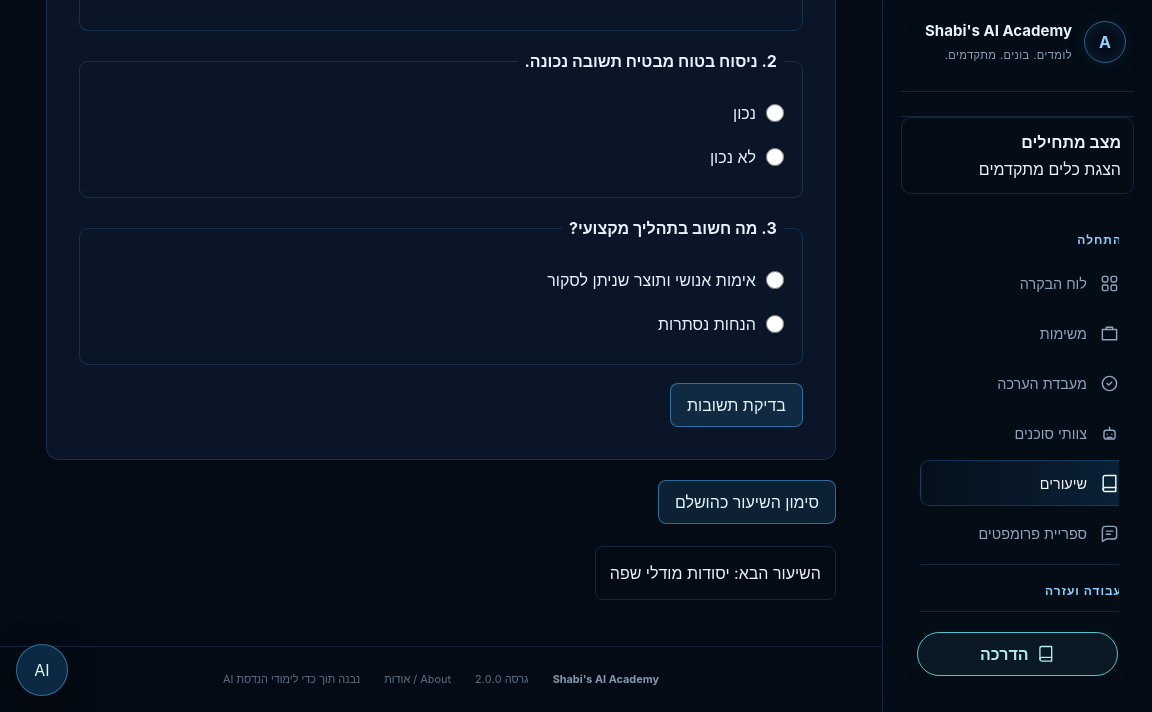
Lesson quiz and completion › rejects marking a lesson complete before the quiz is submitted
This screenshot has width=1152, height=712.
(page scrolled)
Click the button "סימון השיעור כהושלם" at (747, 502), box x1=658 y1=480 x2=836 y2=524
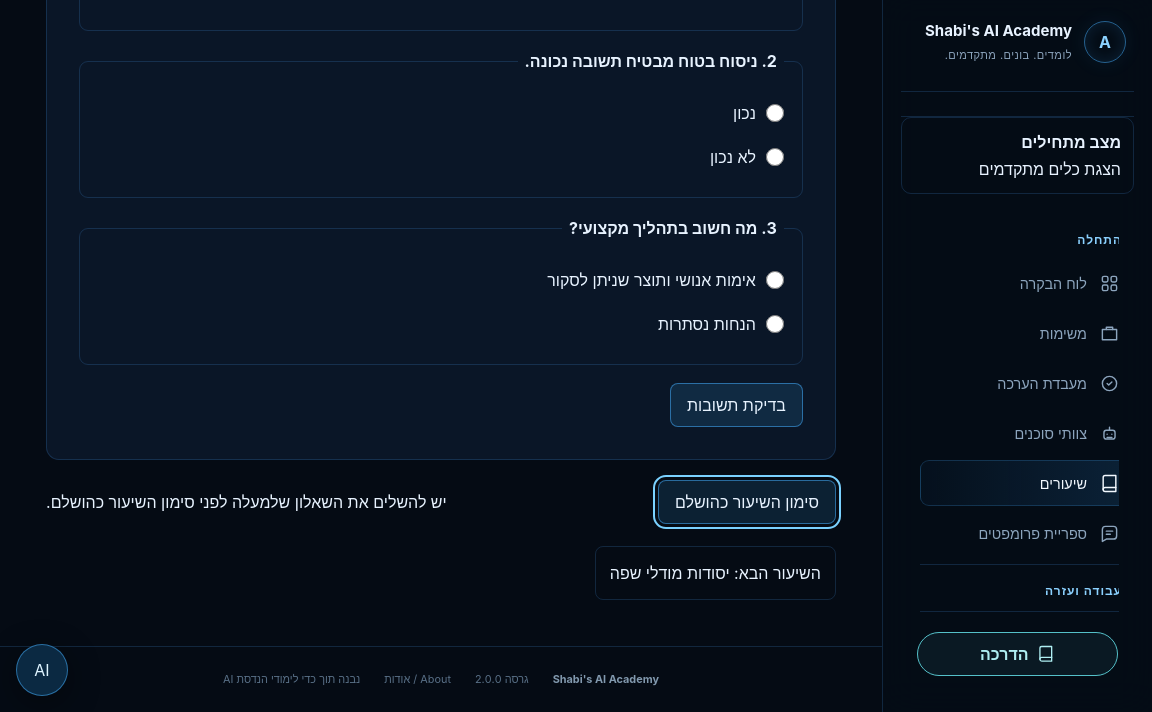
Result: the message reads "יש להשלים את השאלון שלמעלה לפני סימון השיעור כהושלם." at x1=46 y1=492 x2=447 y2=512
